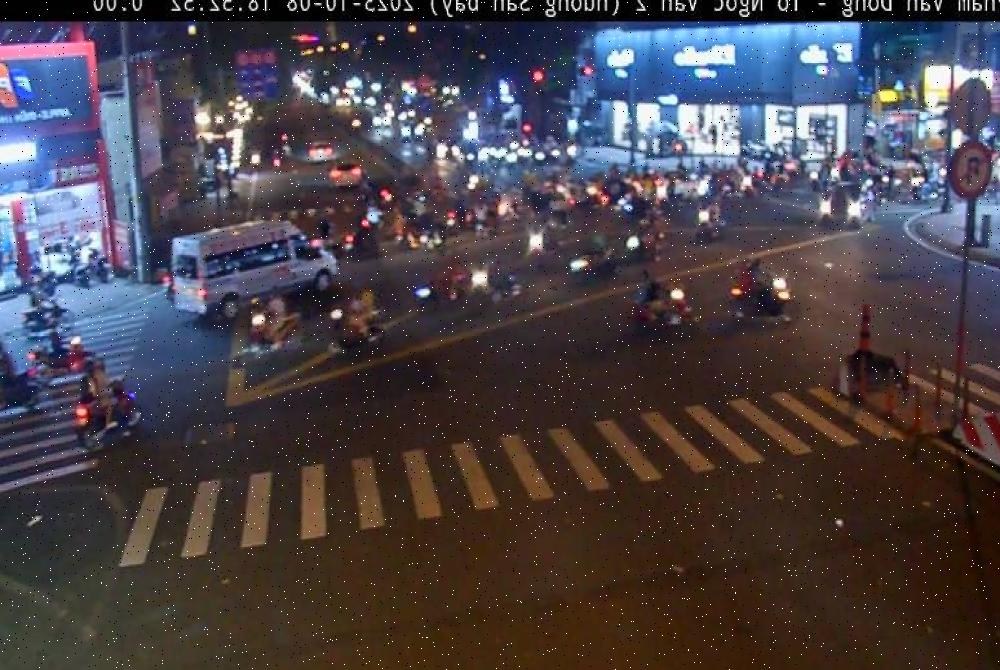car: (170, 216, 336, 324)
